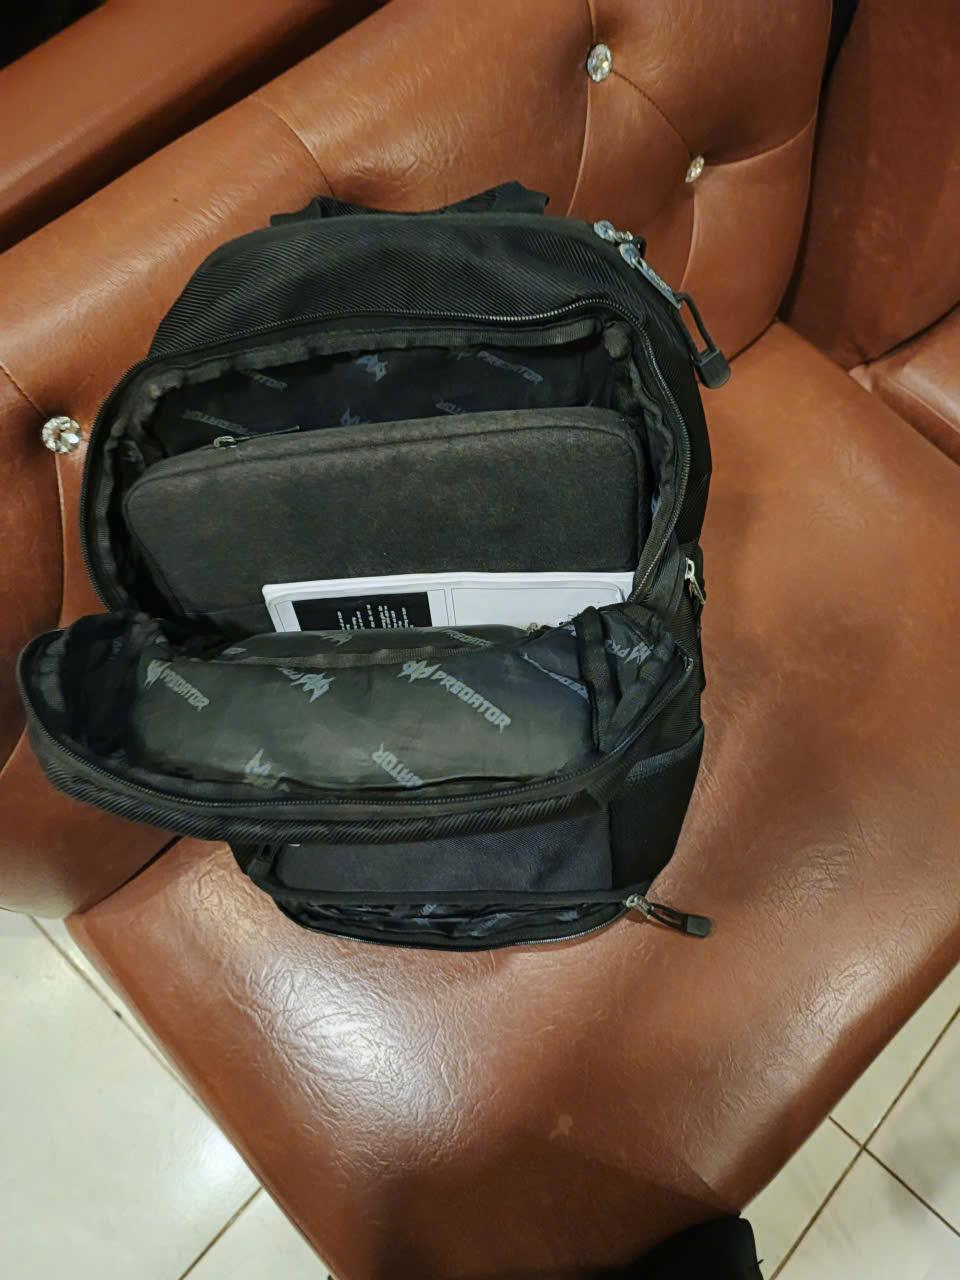Con lai: (15, 188, 710, 942)
